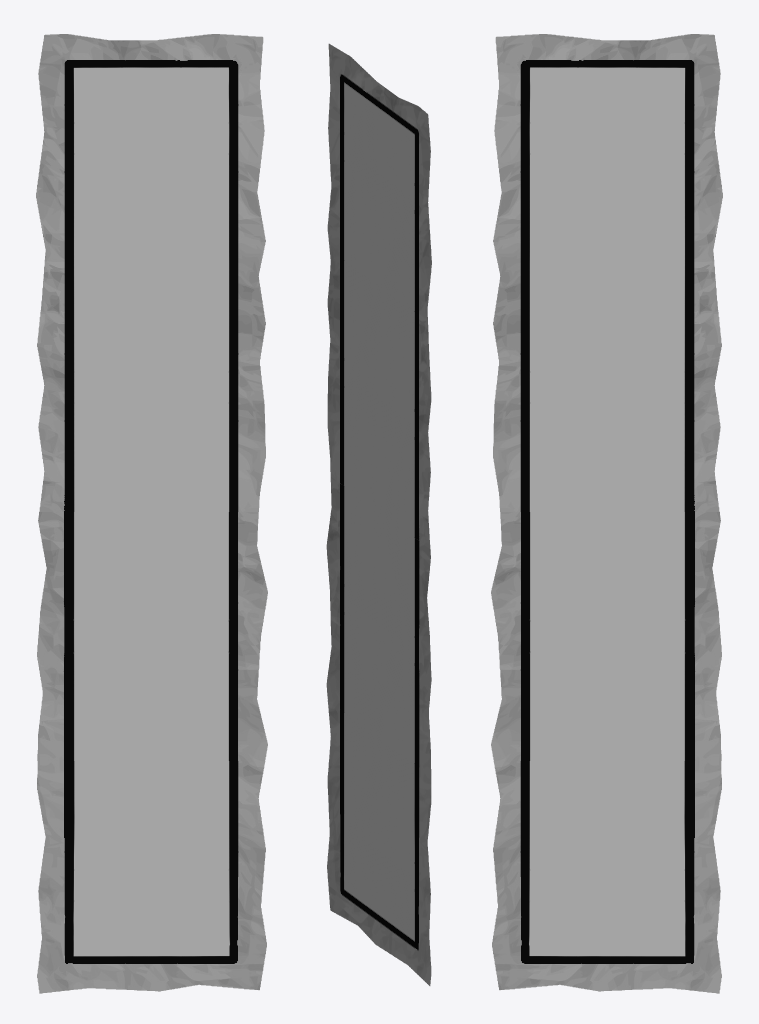
File: M_Hypebar.fbx
3 renders of one model, left to right at view 1: azimuth 90°, elevation 25°; view 2: azimuth 210°, elevation 25°; view 3: azimuth 270°, elevation 25°, orthographic. The views are drawn at different scales.
Visible parts, largest first — view 1: Plane; view 2: Plane; view 3: Plane.
Part boxes in pixels (<box>): Plane: <box>36,34,267,993</box>; Plane: <box>326,43,431,985</box>; Plane: <box>491,34,722,993</box>.
Bounding box in the file's own units: 4.37e-08 × 4 × 1.
